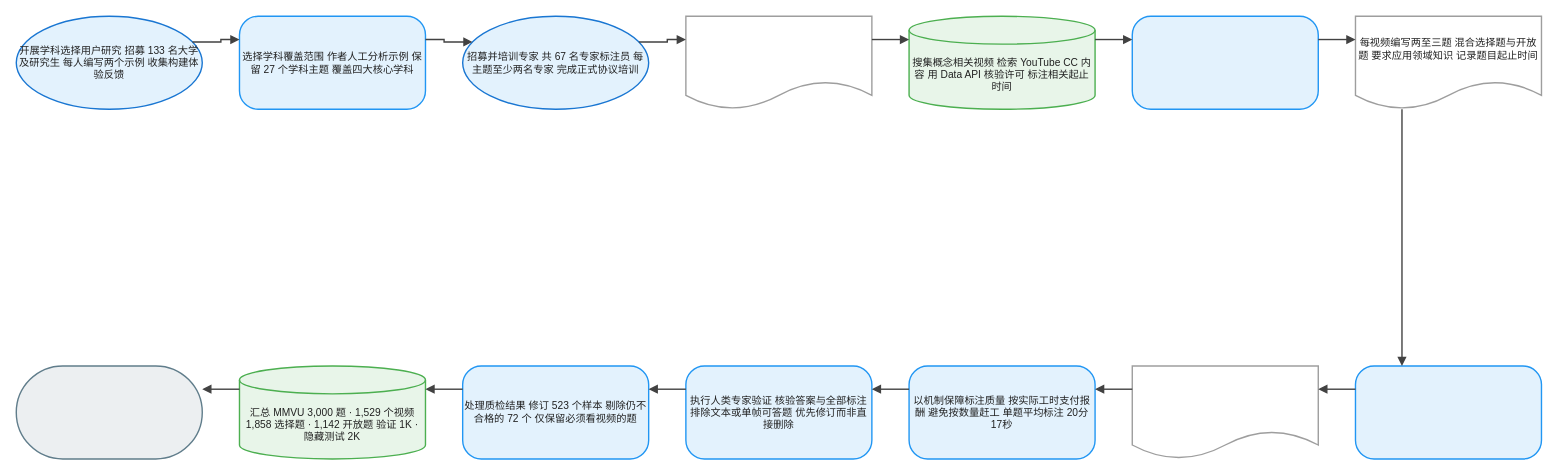
Some shapes in this 1559 by 476 pixel diagram are drawn without their labels. The shapes that lost their labels are listed below. From the top down, each one's centre as x and y in pixels, then its label:
the point at 778,62: 审阅权威教材 逐章检查教材内容 寻找需动态呈现的概念 同时保证知识广度与深度
the point at 1225,62: 强制依赖视觉理解 移除音轨以阻断捷径 要求屏幕文字尽量少 排除讲座等文本捷径
the point at 109,412: 以准确率评测 32 个模型 使用思维链或直接提示 GPT-4o 抽取最终答案 对照标准答案判断正误
the point at 1225,412: 标注专家解答 列出所需领域知识 将概念链接至维基页面 编写逐步推理依据
the point at 1448,412: 构造选择题选项 编写四个可信干扰项 每题共五个选项 随机打乱选项顺序
